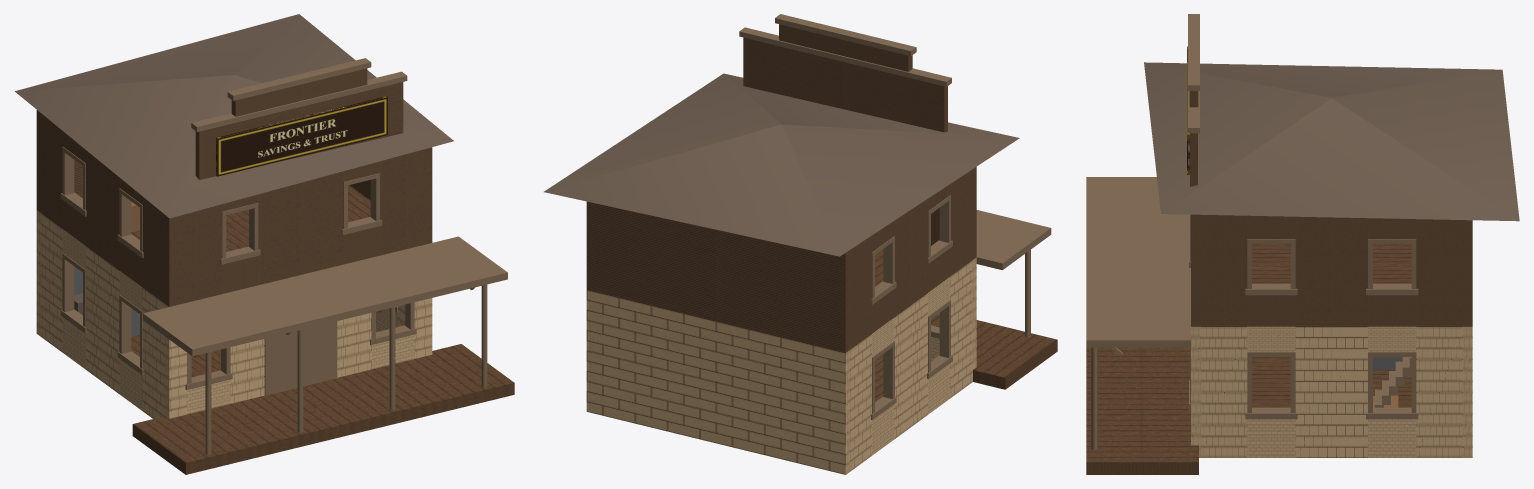
The model's file is bank.gltf.
The picture shows the model from 3 angles, left to right: view 1: azimuth 30°, elevation 25°; view 2: azimuth 150°, elevation 25°; view 3: azimuth 270°, elevation 25°; orthographic projection. The views are drawn at different scales.
Visible parts, largest first — view 1: object 166, object 2, object 101, object 112, object 165, object 111, object 113, object 16, object 27, object 161, object 122, object 162 (+31 smaller); view 2: object 166, object 12, object 118, object 161, object 16, object 2, object 122, object 101, object 162, object 19, object 13, object 125 (+13 smaller); view 3: object 166, object 101, object 2, object 23, object 129, object 20, object 26, object 132, object 126, object 110, object 1, object 21 (+17 smaller).
Part boxes in pixels (x1,y1,x2,y2): object 166: [15, 14, 453, 218]; object 2: [132, 344, 514, 474]; object 101: [143, 236, 507, 356]; object 112: [258, 171, 343, 285]; object 165: [216, 96, 387, 176]; object 111: [164, 204, 221, 306]; object 113: [379, 147, 432, 255]; object 16: [86, 246, 119, 394]; object 27: [264, 321, 337, 395]; object 161: [195, 82, 403, 179]; object 122: [86, 150, 119, 270]; object 162: [231, 68, 367, 126]; object 166: [544, 73, 1019, 256]; object 12: [586, 290, 850, 474]; object 118: [586, 201, 850, 352]; object 161: [743, 37, 947, 132]; object 16: [894, 293, 927, 438]; object 2: [931, 315, 1057, 389]; object 122: [894, 199, 927, 316]; object 101: [976, 210, 1051, 270]; object 162: [779, 24, 912, 81]; object 19: [850, 334, 871, 471]; object 13: [950, 261, 971, 397]; object 125: [850, 235, 871, 349]; object 166: [1144, 62, 1519, 221]; object 101: [1086, 177, 1190, 347]; object 2: [1086, 347, 1198, 474]; object 23: [1295, 326, 1367, 457]; object 129: [1295, 216, 1367, 326]; object 20: [1416, 326, 1462, 457]; object 26: [1201, 326, 1247, 457]; object 132: [1201, 215, 1247, 326]; object 126: [1416, 219, 1462, 326]; object 110: [1252, 243, 1411, 283]; object 1: [1252, 357, 1411, 407]; object 21: [1368, 419, 1416, 457].
Size of the model in its own units: 10 by 9.33 by 10.77.
Materials: 18 (4 with a texture image).
